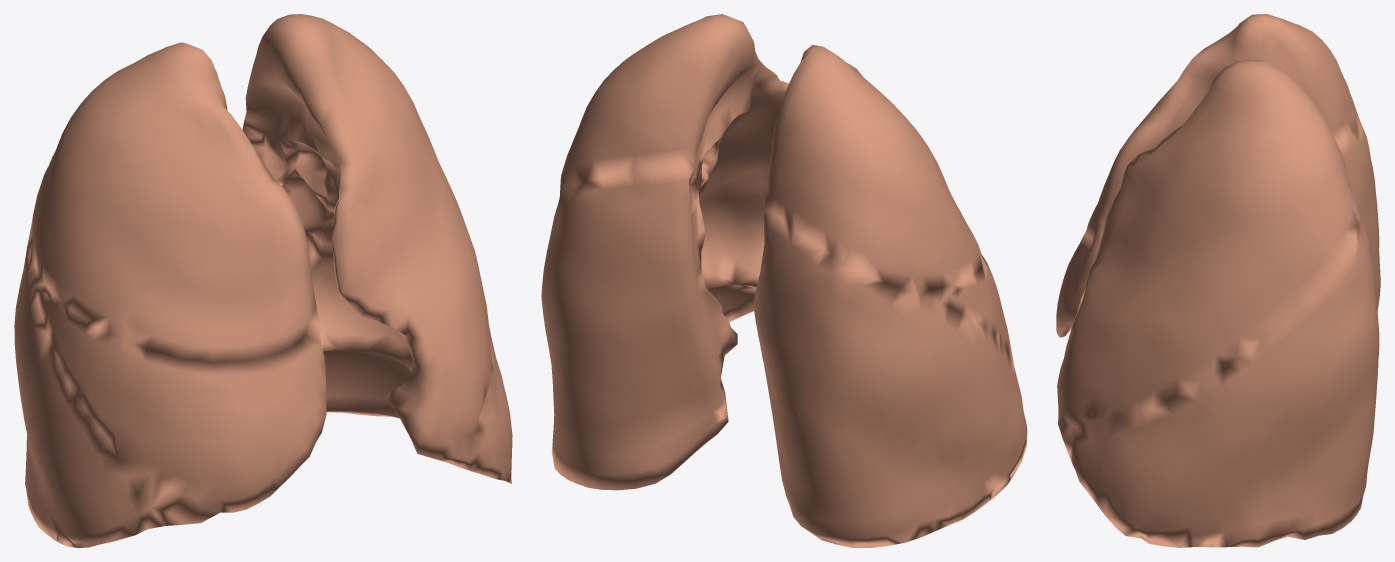
File: pleura.glb
3 renders of one model, left to right at view 1: azimuth 30°, elevation 25°; view 2: azimuth 150°, elevation 25°; view 3: azimuth 270°, elevation 25°, orthographic. The views are drawn at different scales.
Visible parts, largest first — view 1: Pleura; view 2: Pleura; view 3: Pleura.
Part boxes in pixels (box(x1,y1,x2,y2)): Pleura: box(14, 14, 512, 547); Pleura: box(541, 14, 1027, 547); Pleura: box(1056, 14, 1380, 547).
Size of the model in its own units: 0.2618 by 0.2655 by 0.1866.
